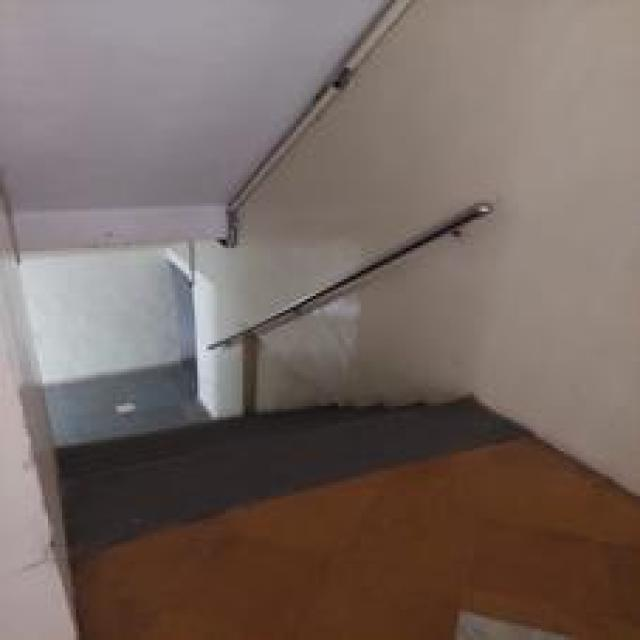stair: (44, 310, 519, 586)
